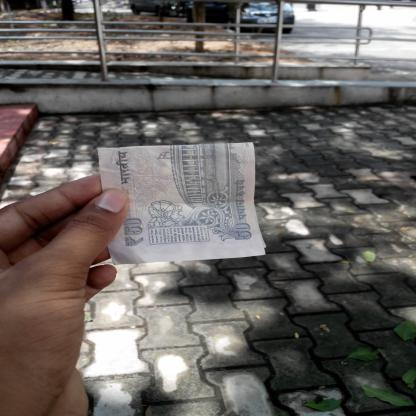Old50Back: (98, 142, 266, 265)
